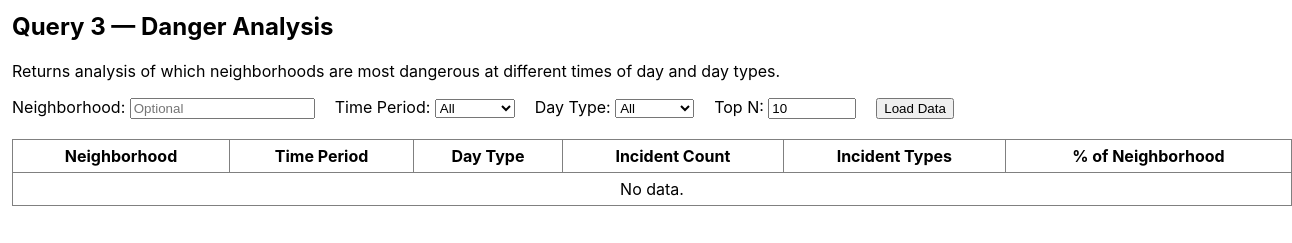
Test: Query3 › handles network error gracefully
The image size is (1292, 243).
Click the button "Load Data" at x=915, y=108, box [876,98,954,119]
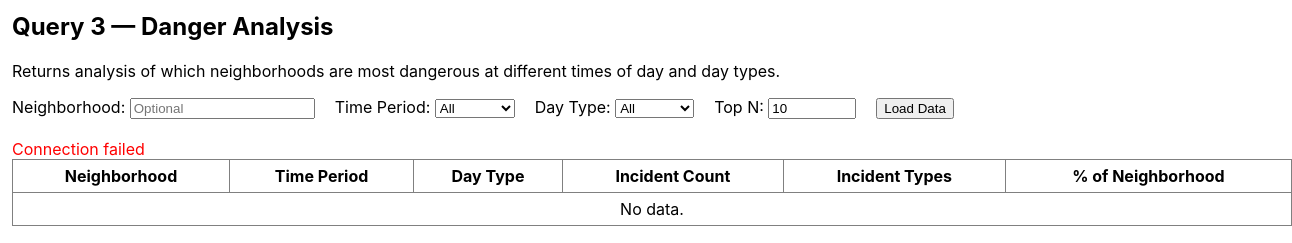
Result: the text "Connection failed" is shown at [12,139,145,159]
